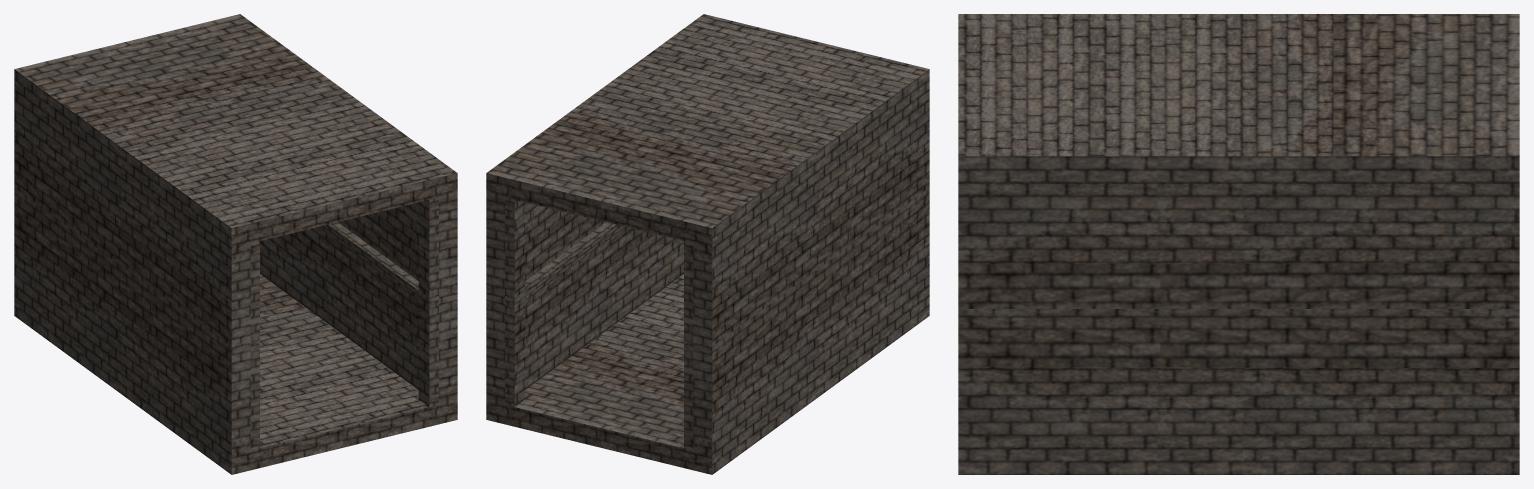
The model's file is Dungeon_1way_2.FBX.
The picture shows the model from 3 angles, left to right: view 1: azimuth 30°, elevation 25°; view 2: azimuth 150°, elevation 25°; view 3: azimuth 270°, elevation 25°; orthographic projection. The views are drawn at different scales.
Parts seen in each view (by area): view 1: Cube_000; view 2: Cube_000; view 3: Cube_000.
Part boxes in pixels (x1,y1,x2,y2): Cube_000: (14,14,457,474); Cube_000: (486,14,929,474); Cube_000: (958,14,1519,474).
Bounding box in the file's own units: 6 × 6.26 × 10.
